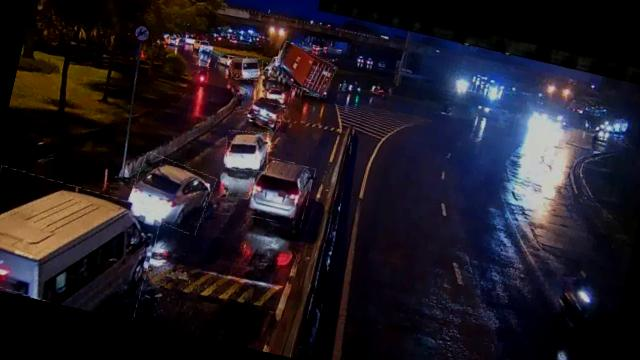Bus: (0, 167, 164, 322), (253, 70, 293, 109), (228, 54, 266, 84), (195, 46, 220, 68)
Car: (126, 153, 217, 235), (246, 155, 315, 228), (220, 126, 272, 176), (246, 94, 288, 131)
Truck: (270, 43, 338, 96)
